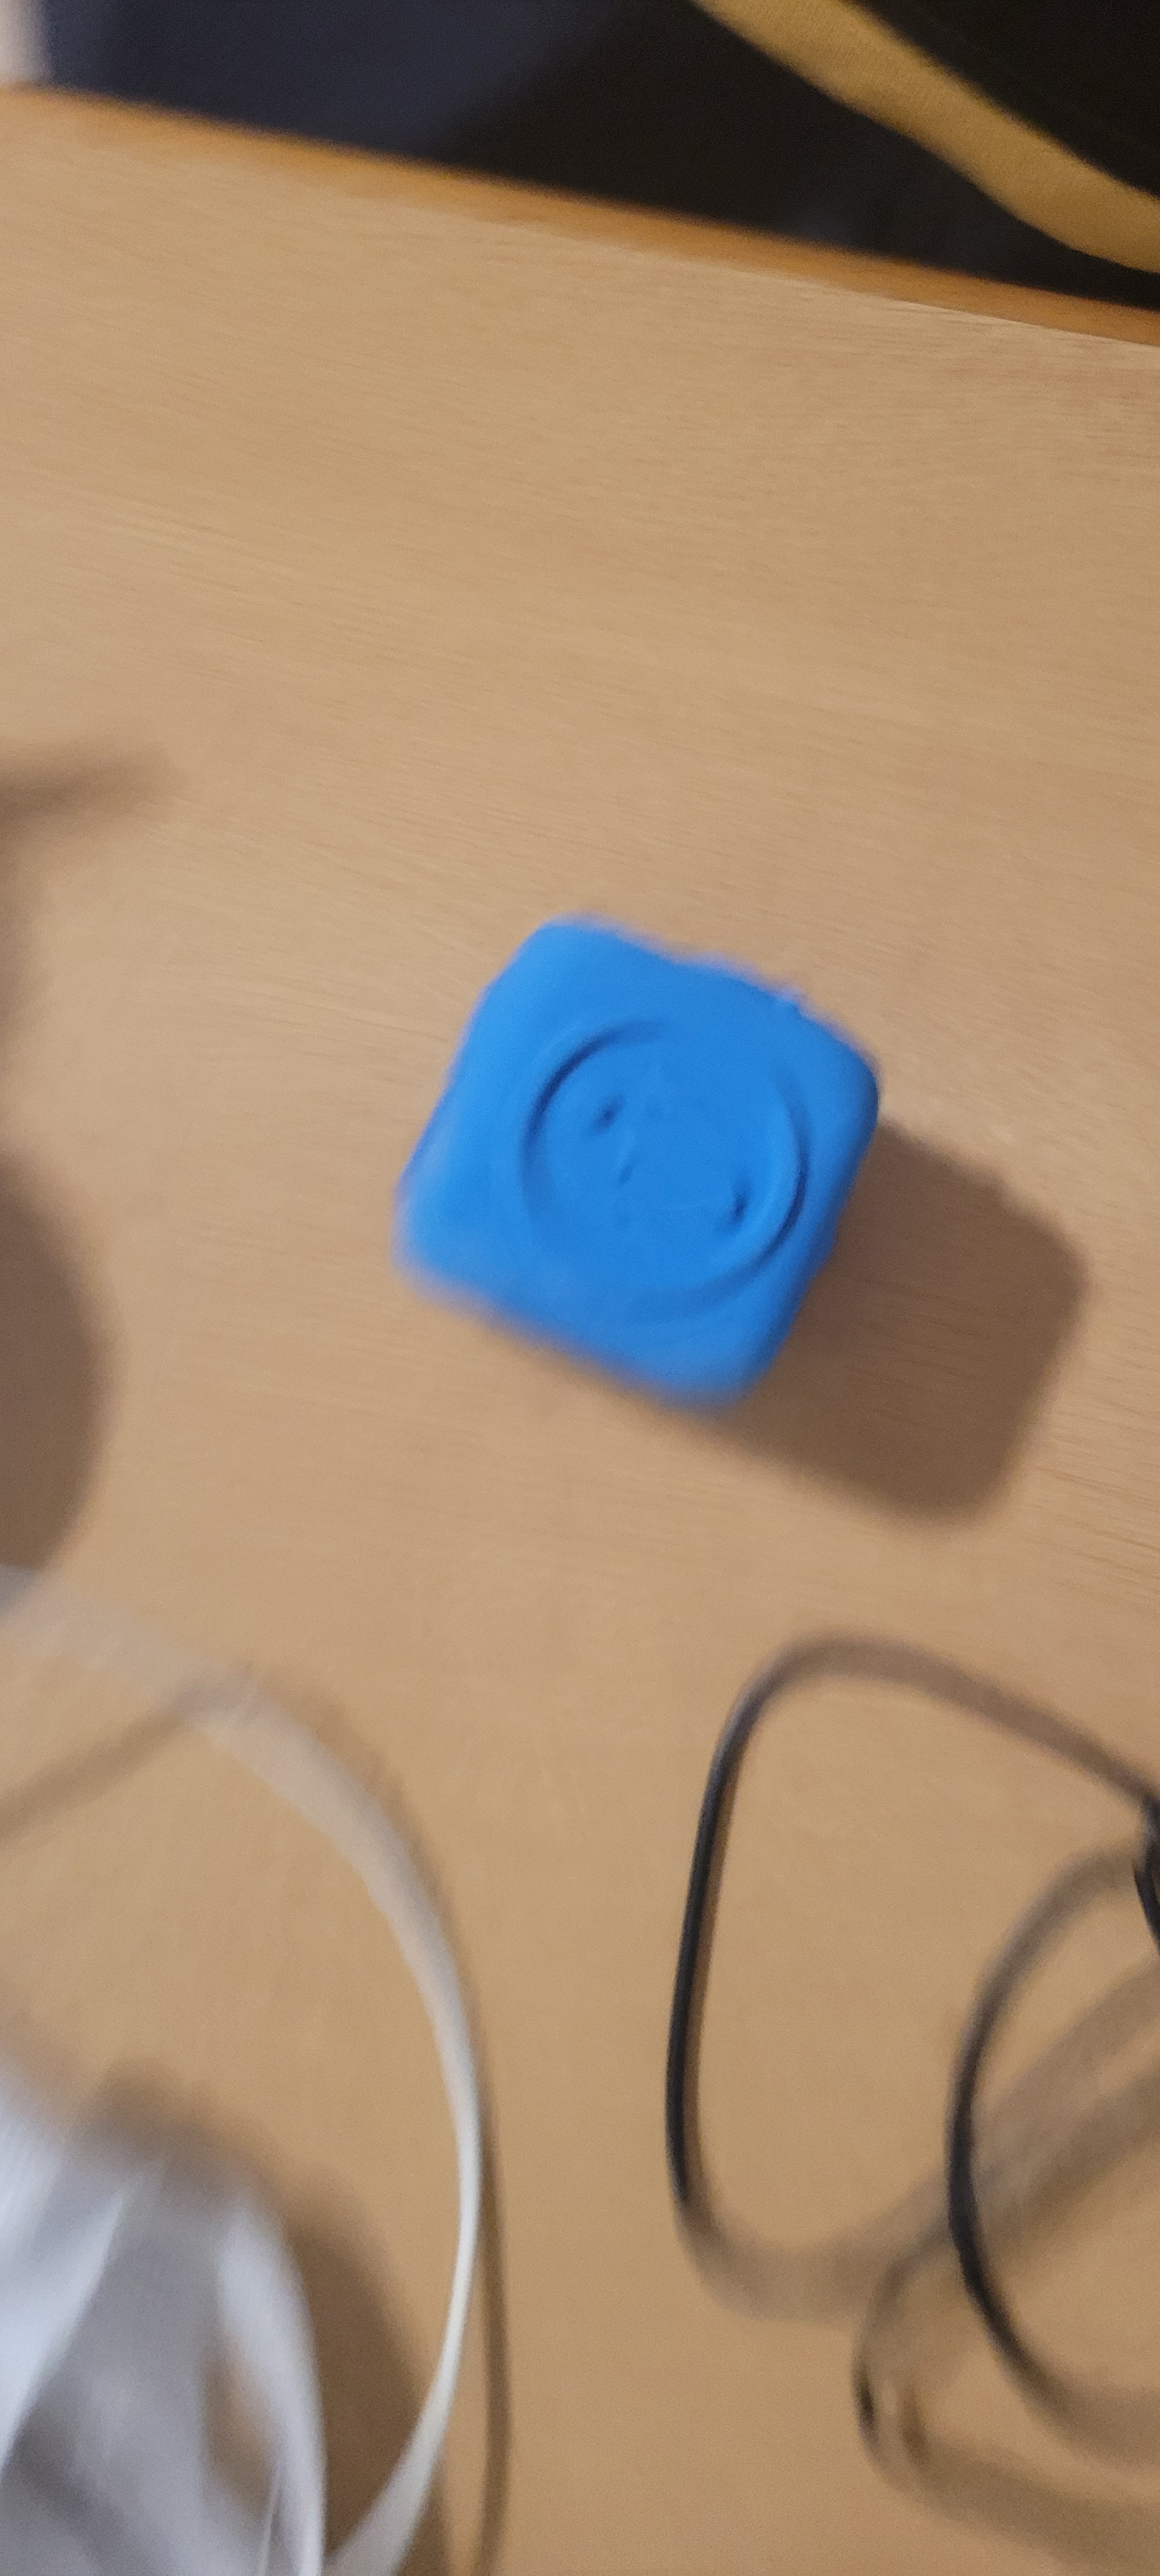Info: (473, 1010, 868, 1347)
